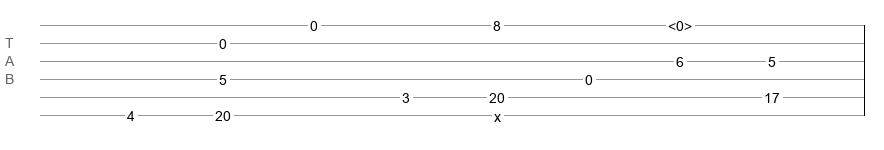0: (219, 36, 227, 46), (310, 18, 318, 28), (585, 72, 593, 82)
17: (764, 90, 780, 100)
20: (215, 108, 231, 118), (489, 90, 505, 100)
3: (402, 90, 410, 100)
4: (127, 108, 135, 118)
5: (219, 72, 227, 82), (768, 54, 776, 64)
6: (676, 54, 684, 64)
8: (493, 18, 501, 28)
harmonic: (668, 18, 692, 28)
x: (494, 109, 501, 117)
